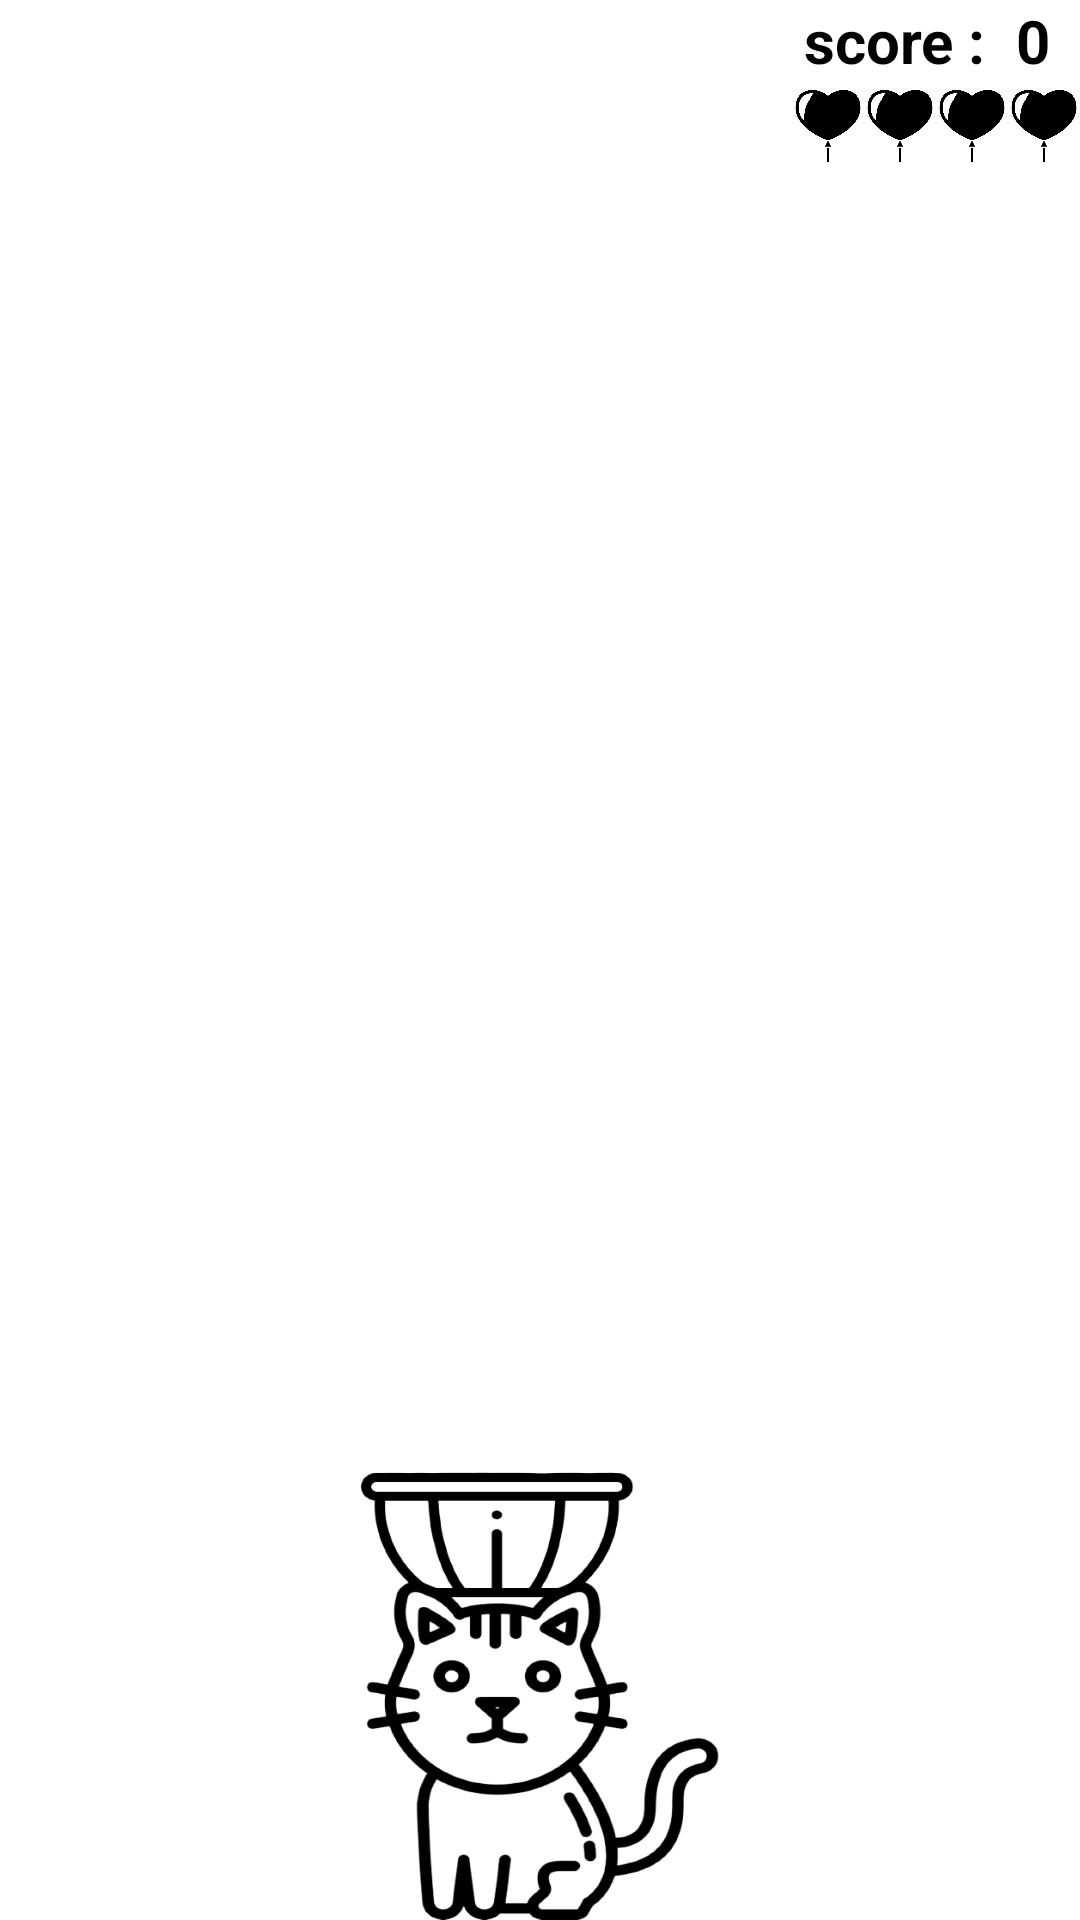

Icon click points for this 1080×1920 phone screenshot, format (x,y):
heart: (828,126), (900,126), (972,126), (1044,126)
